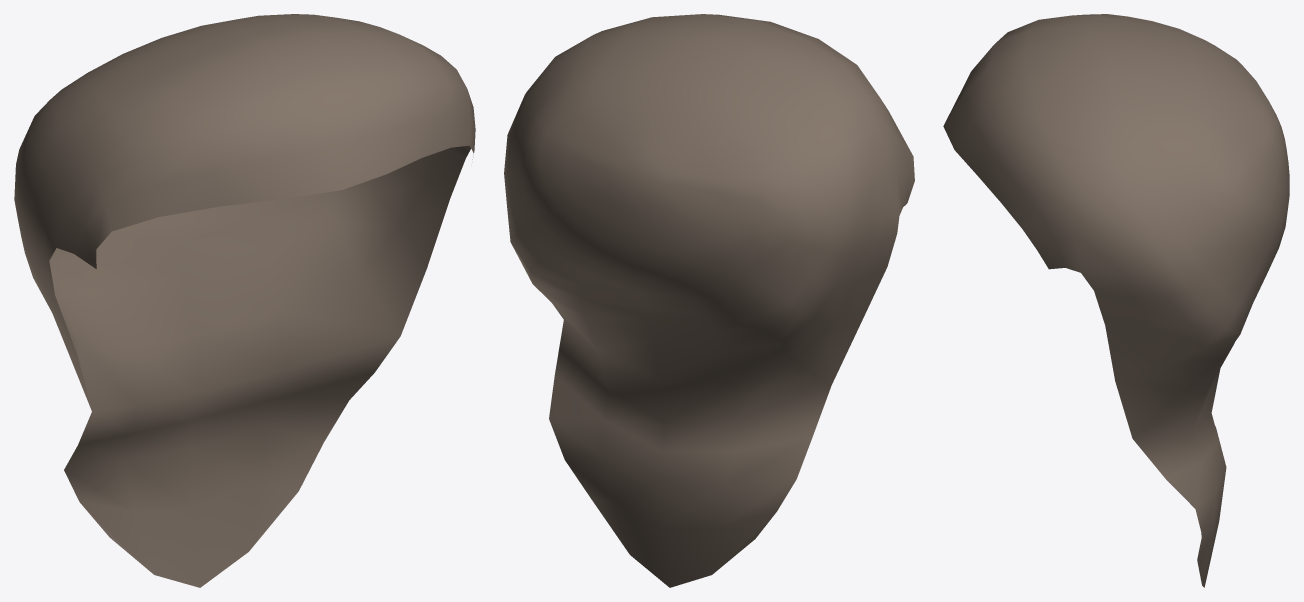
The model's file is EnemyWoman_Hair.fbx.
3 renders of one model, left to right at view 1: azimuth 30°, elevation 25°; view 2: azimuth 150°, elevation 25°; view 3: azimuth 270°, elevation 25°, orthographic. The views are drawn at different scales.
Parts seen in each view (by area): view 1: pSphere1; view 2: pSphere1; view 3: pSphere1.
Part boxes in pixels (x1,y1,x2,y2): pSphere1: (14, 14, 475, 587); pSphere1: (504, 14, 914, 587); pSphere1: (943, 14, 1289, 587).
Bounding box in the file's own units: 170 × 228 × 132.
